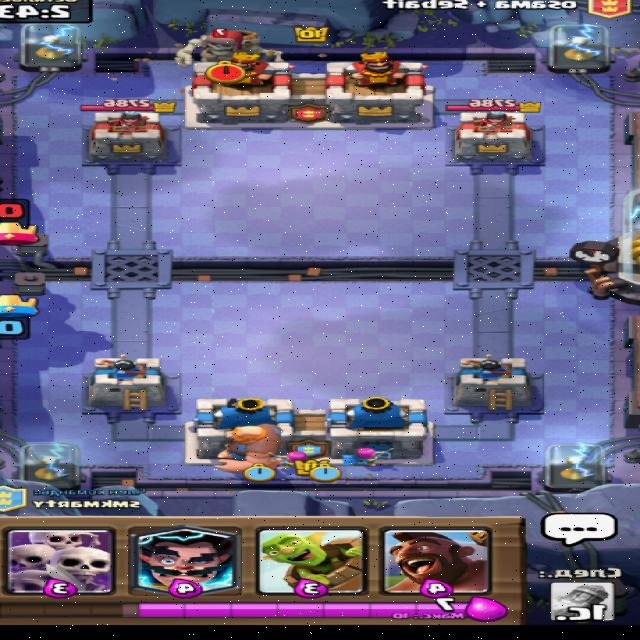Enemy-GiantSkeleton: (175, 28, 288, 75)
Player-Archer: (342, 446, 395, 468), (267, 449, 310, 470)
Player-Giant: (214, 423, 285, 472)
